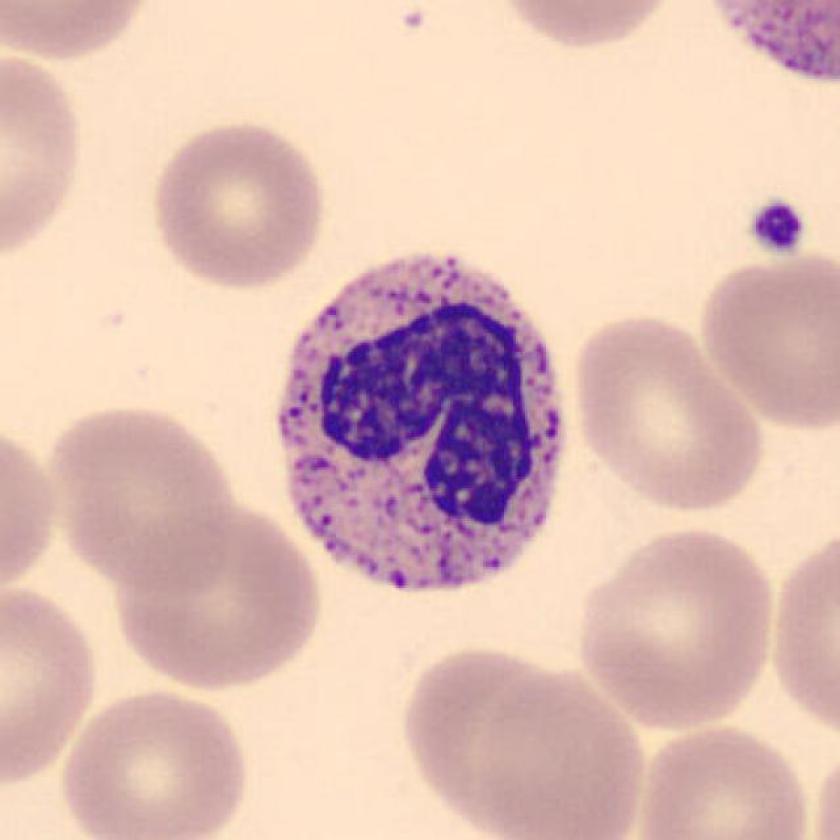neutrophil: (277, 246, 566, 593)
